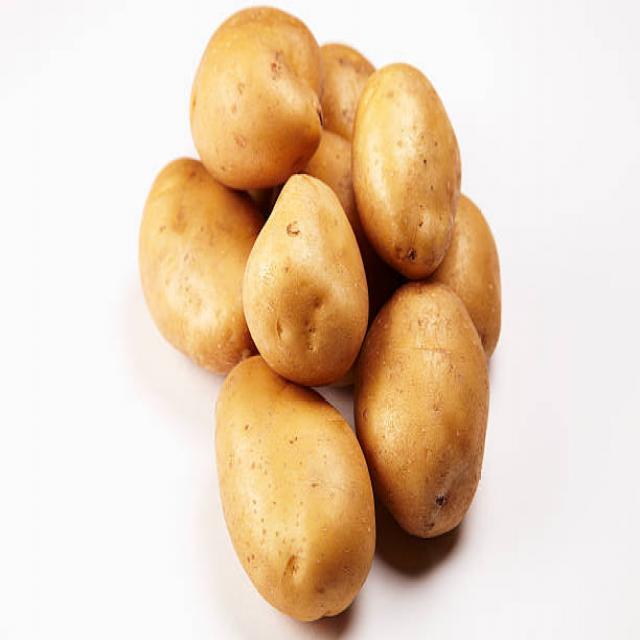Potato: (210, 385, 368, 628), (370, 293, 488, 540), (350, 55, 466, 279), (184, 5, 328, 182), (140, 157, 250, 380), (242, 185, 365, 383)
